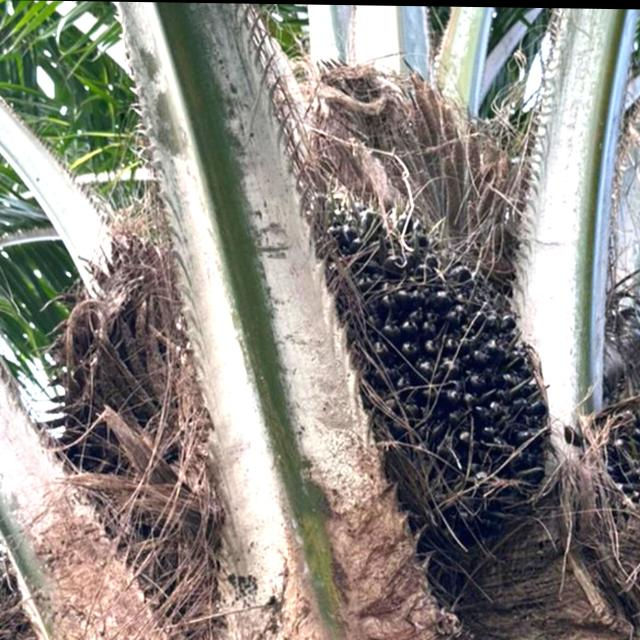unripe: (284, 176, 556, 582)
